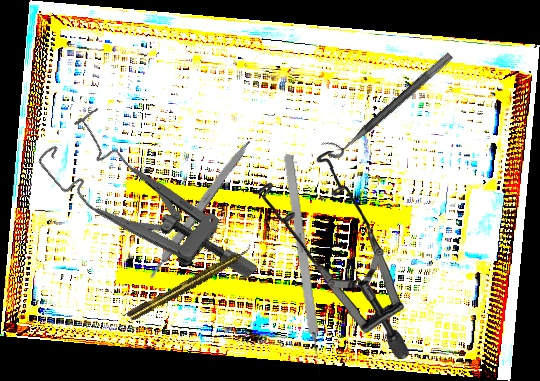Fixation Ring: (319, 41, 455, 164)
Handpiece: (125, 242, 256, 324)
Hook Surgical: (283, 153, 325, 377)
Scalpel Handle: (144, 136, 253, 281)
Speculum: (34, 93, 260, 332), (248, 148, 417, 360)
